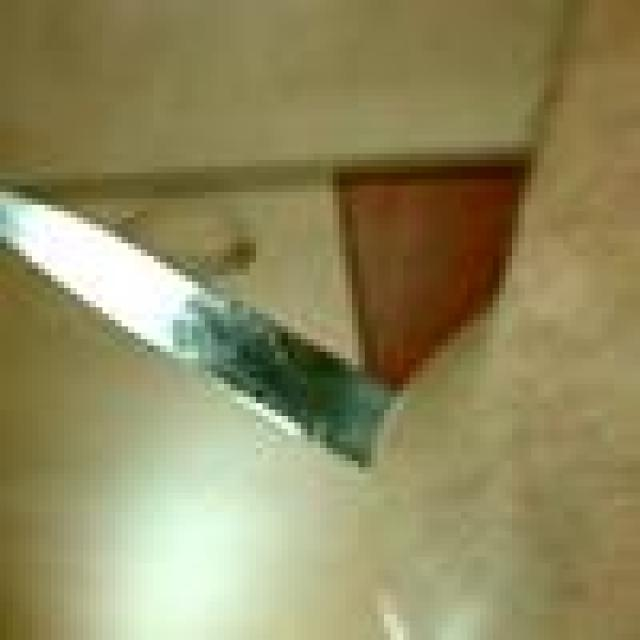knife: (1, 188, 370, 468)
